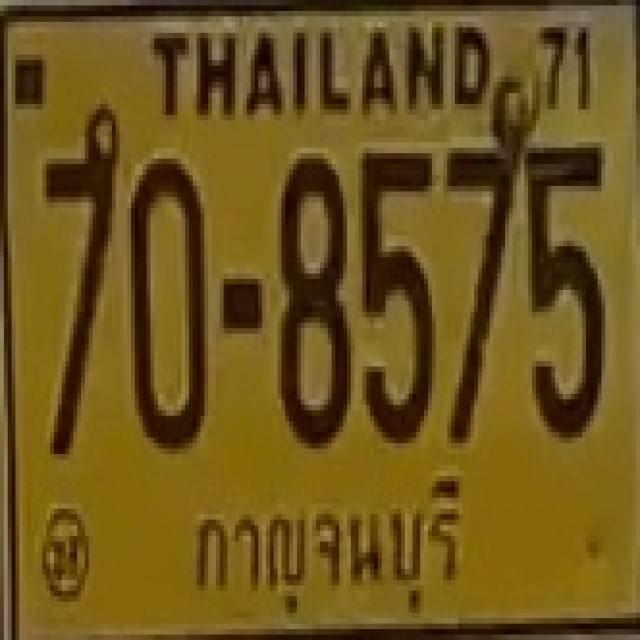0: (128, 156, 205, 446)
5: (524, 142, 602, 432), (358, 145, 432, 440)
7: (44, 126, 118, 443), (443, 145, 517, 435), (443, 148, 517, 317)
8: (278, 153, 347, 443)
KRI: (183, 466, 470, 619)
